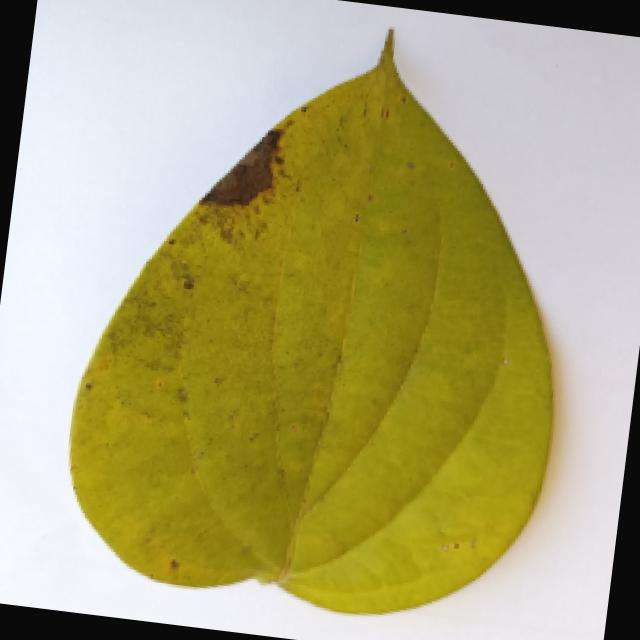slow-decline: (15, 0, 632, 629)
